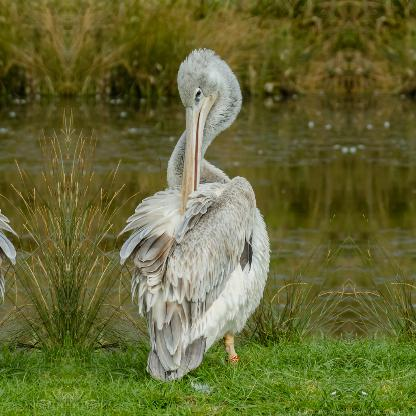Bird: (115, 75, 272, 382)
